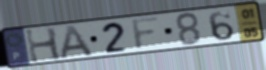2: (98, 19, 131, 56)
6: (207, 10, 236, 42)
8: (174, 11, 204, 47)
A: (58, 23, 96, 60)
F: (129, 15, 162, 52)
H: (23, 26, 64, 65)
